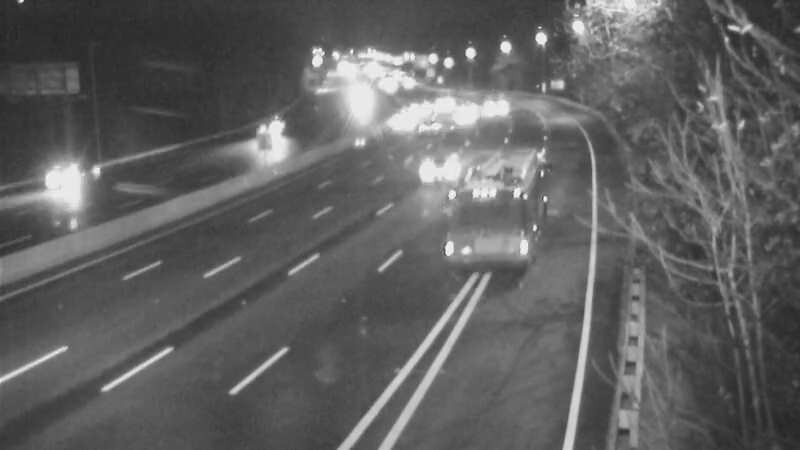vehicle: (400, 130, 480, 210), (438, 185, 518, 265), (19, 143, 99, 223), (464, 80, 514, 130), (390, 85, 440, 135), (434, 92, 484, 142), (370, 95, 420, 145), (405, 104, 455, 154), (257, 104, 307, 154)
